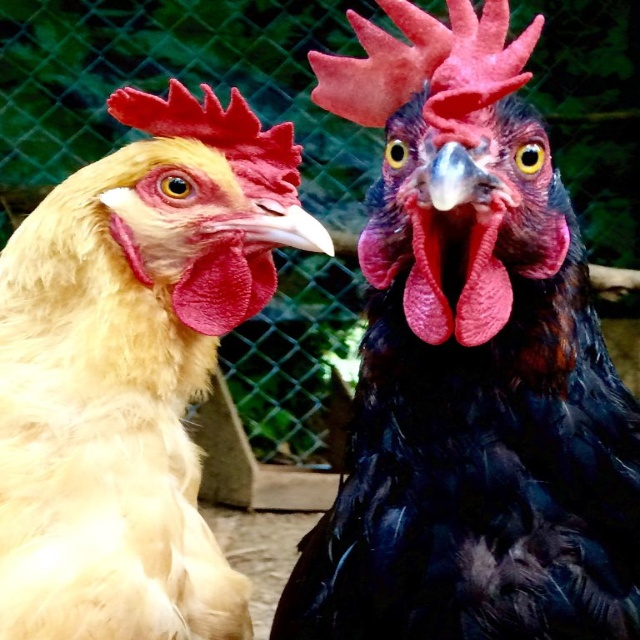Chicken: (269, 0, 640, 640), (0, 78, 335, 640)
